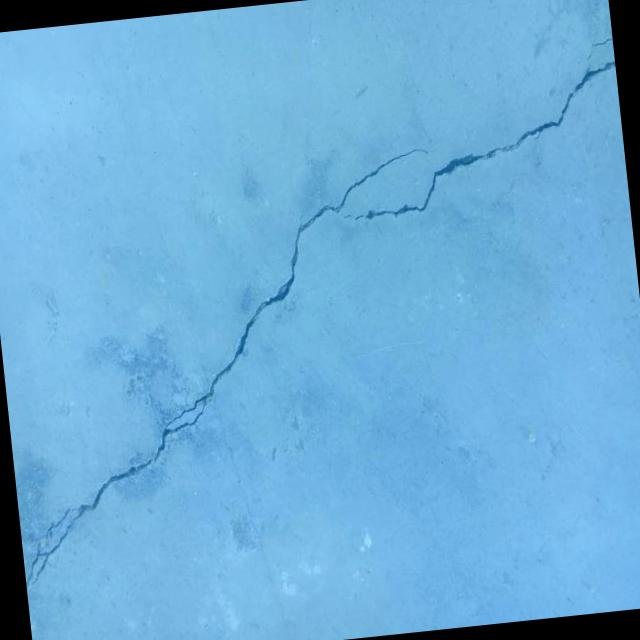crack: (0, 147, 470, 586), (330, 60, 628, 224), (585, 36, 614, 59)
